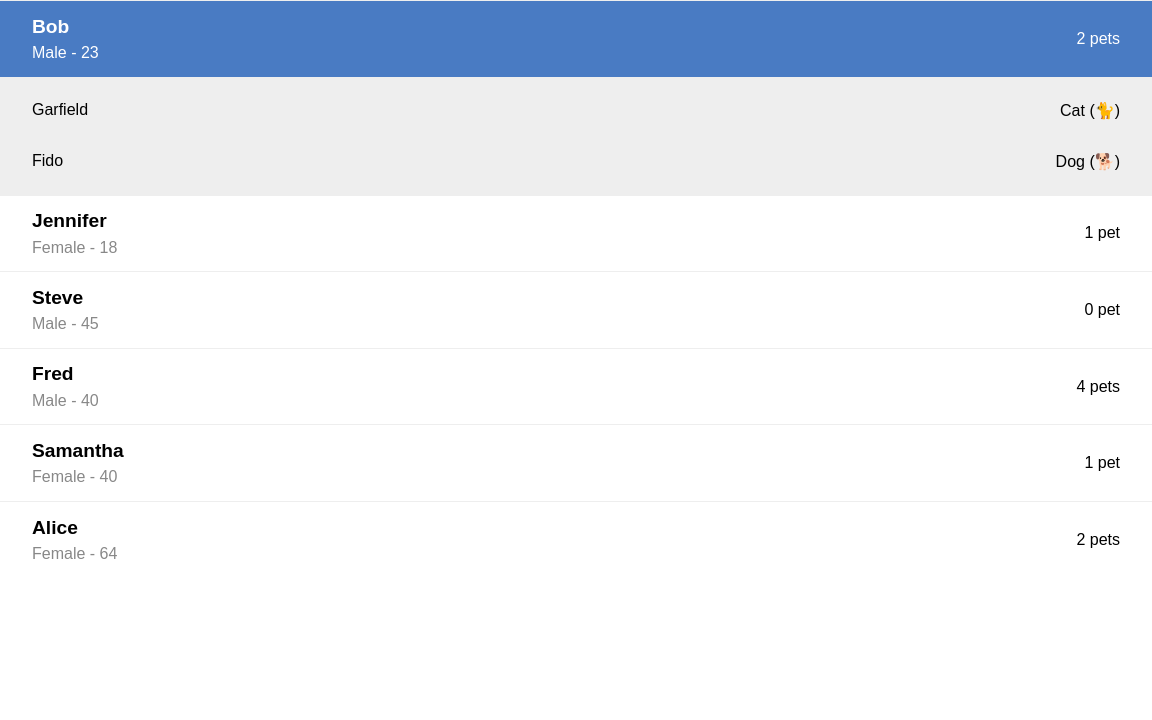
Pets List › should expand item when clicked
This screenshot has width=1152, height=720.
Expected: the element with test id "item-0-expanded" is shown, [0, 77, 1151, 195]
// fire click event
Click the element with test id "item-1" at (576, 233), box [0, 195, 1151, 271]
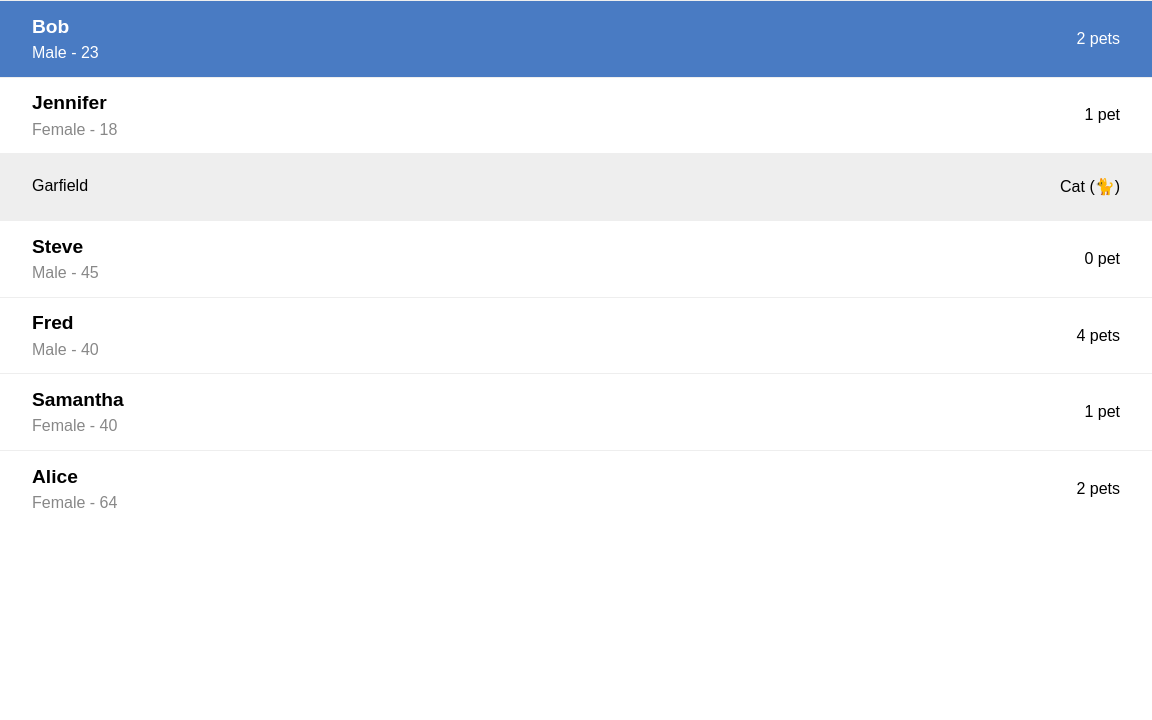
Expected: the text with test id "item-1-pet-0-name" reads "Garfield", [32, 177, 88, 194]
Expected: the element with test id "item-1-expanded" is shown, [0, 153, 1151, 220]
Expected: the element with test id "item-0-expanded" is gone
